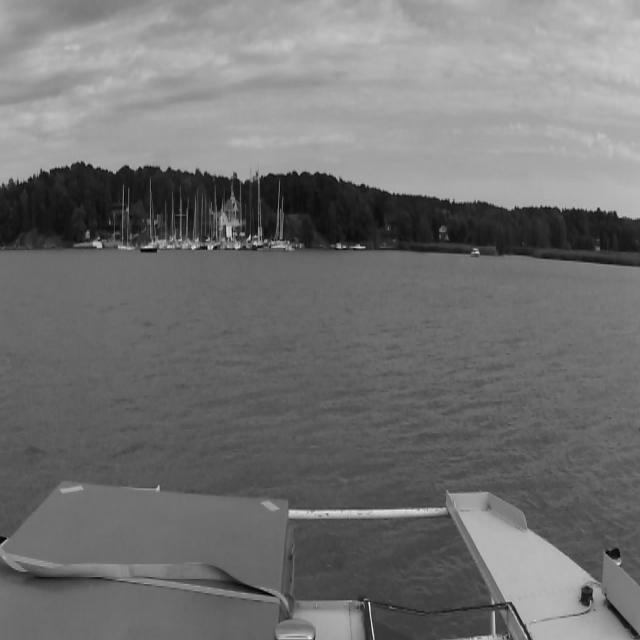ship: (161, 186, 189, 249), (138, 178, 160, 252), (192, 188, 214, 250), (118, 183, 134, 253), (274, 189, 290, 251), (253, 165, 264, 252), (238, 180, 250, 250), (228, 194, 241, 252), (190, 184, 198, 253), (330, 240, 350, 251), (350, 241, 366, 251), (471, 246, 481, 258)
